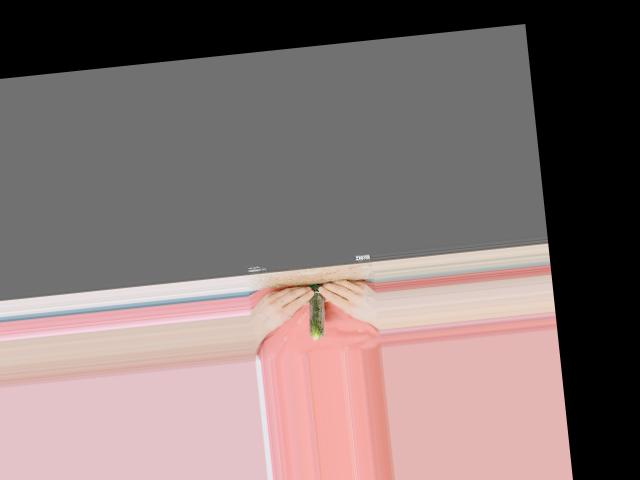cucumber: (304, 283, 327, 339)
